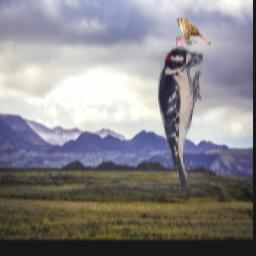Sparrow: (176, 16, 212, 45)
Woodpecker: (157, 45, 204, 194)
